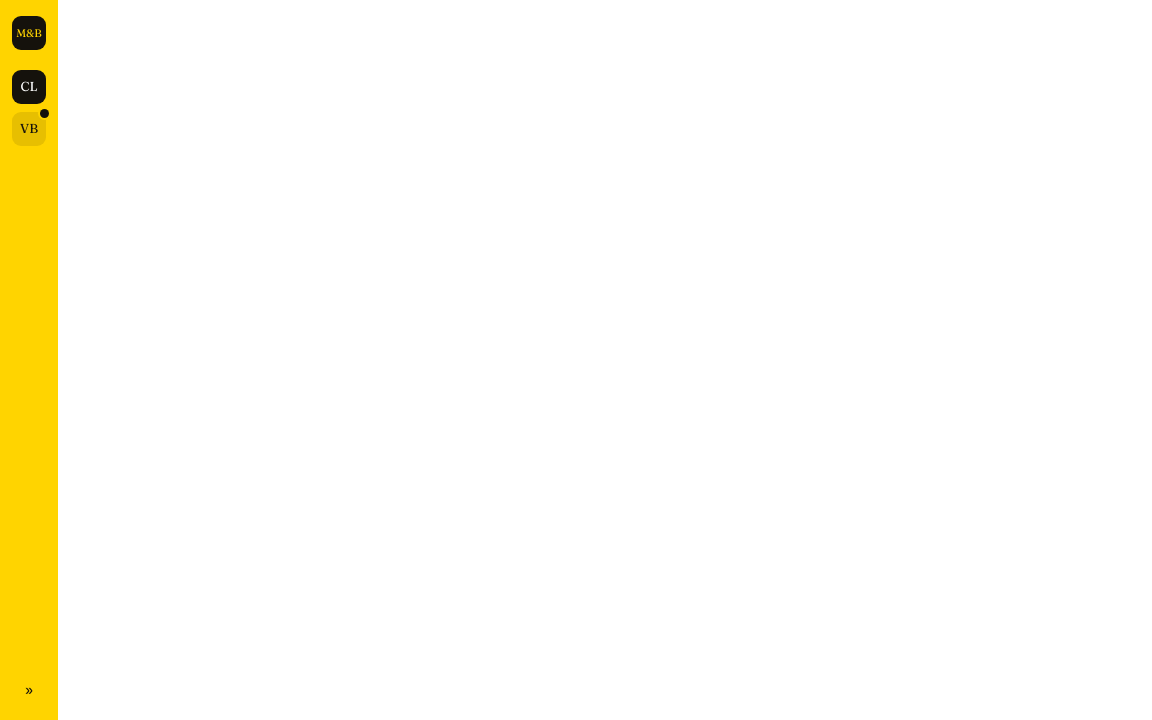
Test: BarraProyectos › el control de abrir declara aria-expanded=false y lo alterna
Click the button named "Ver los nombres" at (29,689), box [14,674,44,704]
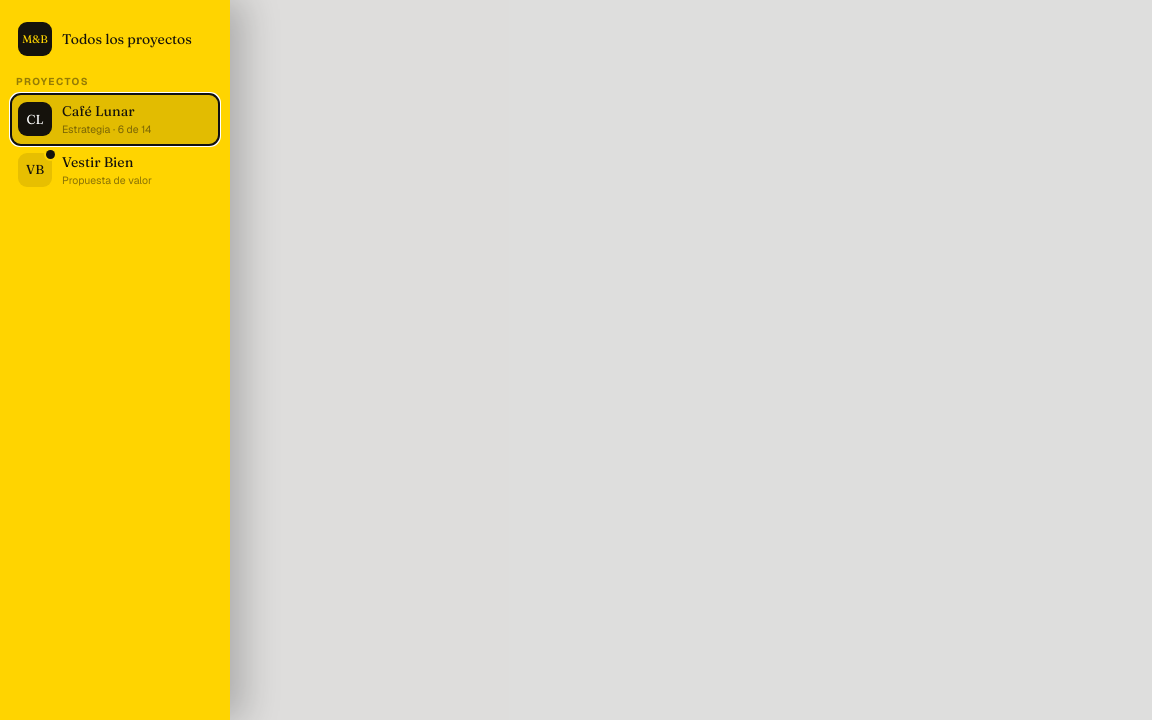
Check: the text "Café Lunar" is shown, box [62,102,135,120]
